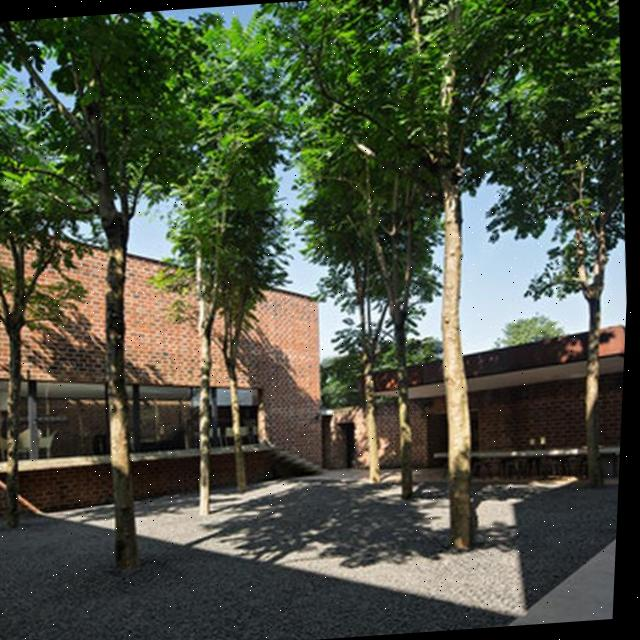building: (0, 188, 343, 503), (325, 317, 626, 486)
